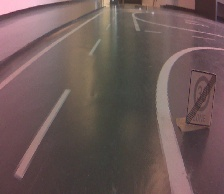zone 30 stop sign: (185, 68, 217, 127)
